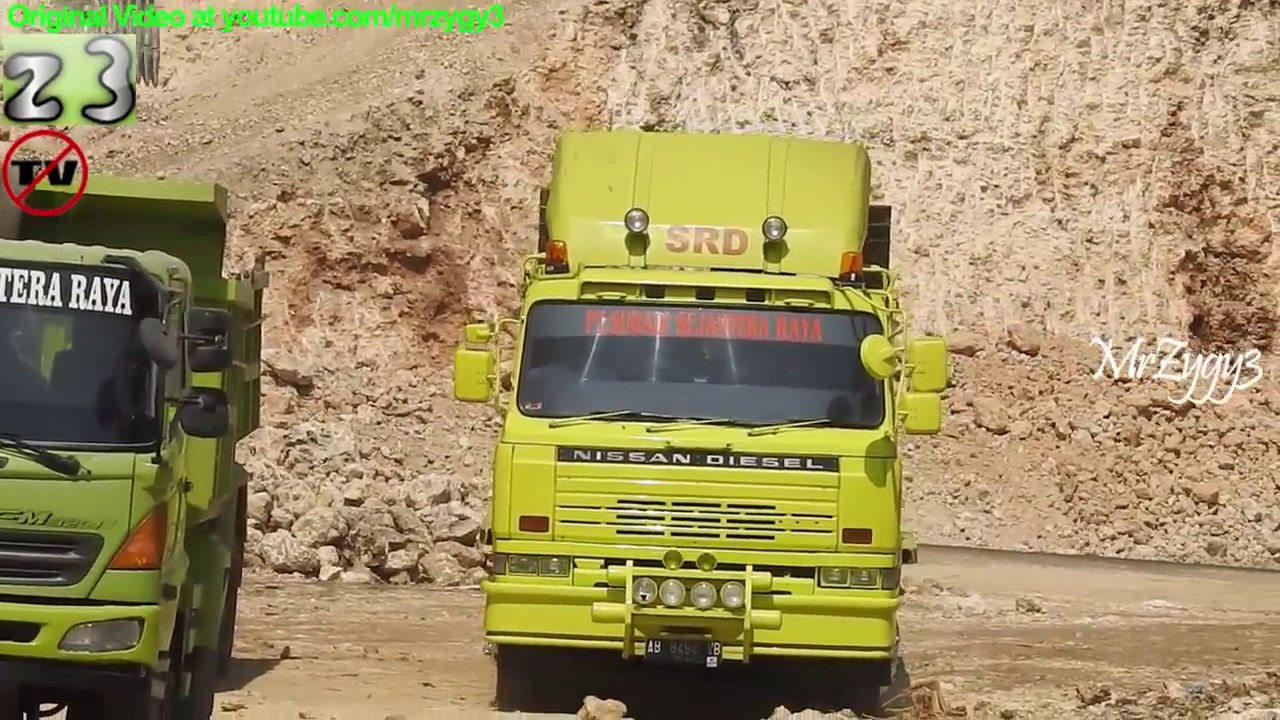truck: (450, 123, 961, 720), (1, 141, 279, 720)
